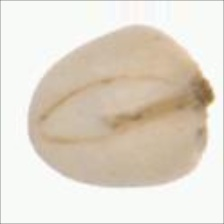L5: (41, 73, 188, 145), (19, 90, 55, 168), (186, 53, 217, 129)
L6: (24, 24, 217, 189)
